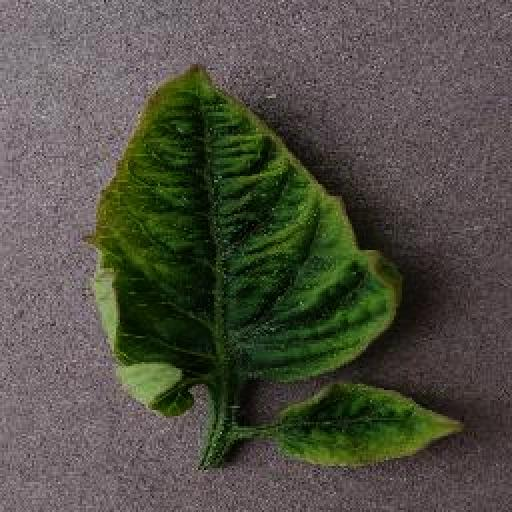disease_tomato: (92, 63, 404, 421), (270, 383, 464, 465)
